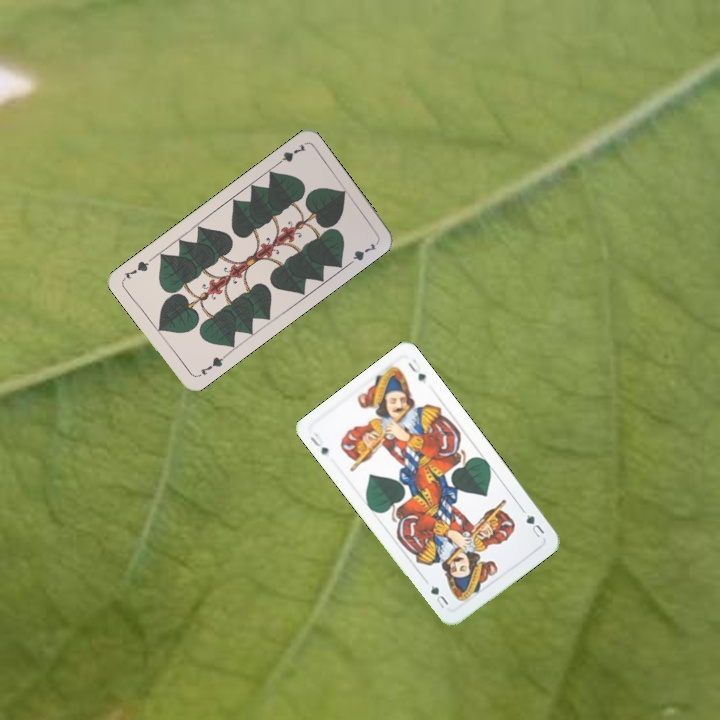G7: (271, 140, 309, 169), (193, 351, 229, 380)
GU: (518, 505, 547, 541), (306, 429, 331, 458)
